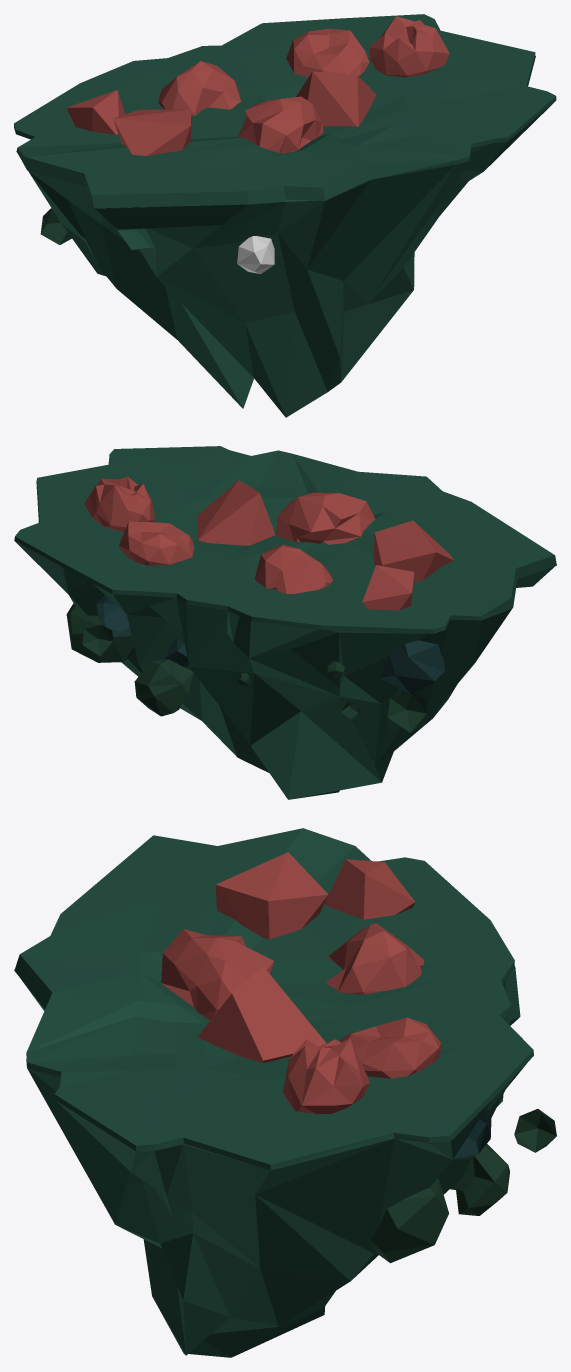
The model's file is island2_base.obj.
3 views of the same model, one above another, from view 1: azimuth 30°, elevation 25°; view 2: azimuth 150°, elevation 25°; view 3: azimuth 270°, elevation 25° (orthographic). The views are drawn at different scales.
Visible parts, largest first — view 1: Plane.001_Plane.002, Icosphere.014_Icosphere.020, Icosphere.007_Icosphere.016, Icosphere.008_Icosphere.015, Icosphere.010_Icosphere.017, Icosphere.012_Icosphere.019, Icosphere.002_Icosphere.000, Icosphere.011_Icosphere.018, Icosphere.009_Icosphere.010, Icosphere.013_Icosphere.014; view 2: Plane.001_Plane.002, Icosphere.013_Icosphere.014, Icosphere.014_Icosphere.020, Icosphere.003, Icosphere.010_Icosphere.017, Icosphere.012_Icosphere.019, Icosphere.002_Icosphere.000, Icosphere.007_Icosphere.016, Icosphere.008_Icosphere.015, Icosphere.011_Icosphere.018; view 3: Plane.001_Plane.002, Icosphere.013_Icosphere.014, Icosphere.010_Icosphere.017, Icosphere.012_Icosphere.019, Icosphere.014_Icosphere.020, Icosphere.007_Icosphere.016, Icosphere.002_Icosphere.000, Icosphere.008_Icosphere.015, Icosphere.011_Icosphere.018, Icosphere.003.
Part boxes in pixels (bbox=[...]): Plane.001_Plane.002: bbox=[14, 14, 556, 417]; Icosphere.014_Icosphere.020: bbox=[238, 96, 323, 153]; Icosphere.007_Icosphere.016: bbox=[369, 16, 449, 77]; Icosphere.008_Icosphere.015: bbox=[286, 28, 369, 77]; Icosphere.010_Icosphere.017: bbox=[296, 71, 376, 126]; Icosphere.012_Icosphere.019: bbox=[113, 109, 191, 155]; Icosphere.002_Icosphere.000: bbox=[158, 61, 240, 115]; Icosphere.011_Icosphere.018: bbox=[66, 90, 124, 134]; Icosphere.009_Icosphere.010: bbox=[237, 236, 274, 274]; Icosphere.013_Icosphere.014: bbox=[40, 208, 71, 244]; Plane.001_Plane.002: bbox=[14, 446, 556, 799]; Icosphere.013_Icosphere.014: bbox=[66, 603, 426, 732]; Icosphere.014_Icosphere.020: bbox=[276, 492, 375, 544]; Icosphere.003: bbox=[96, 594, 444, 694]; Icosphere.010_Icosphere.017: bbox=[197, 480, 275, 545]; Icosphere.012_Icosphere.019: bbox=[373, 520, 453, 581]; Icosphere.002_Icosphere.000: bbox=[254, 544, 332, 593]; Icosphere.007_Icosphere.016: bbox=[84, 476, 154, 531]; Icosphere.008_Icosphere.015: bbox=[118, 521, 194, 565]; Icosphere.011_Icosphere.018: bbox=[362, 565, 414, 610]; Plane.001_Plane.002: bbox=[14, 828, 533, 1357]; Icosphere.013_Icosphere.014: bbox=[370, 1109, 556, 1263]; Icosphere.010_Icosphere.017: bbox=[197, 966, 326, 1062]; Icosphere.012_Icosphere.019: bbox=[215, 852, 328, 939]; Icosphere.014_Icosphere.020: bbox=[161, 929, 274, 1020]; Icosphere.007_Icosphere.016: bbox=[283, 1038, 369, 1113]; Icosphere.002_Icosphere.000: bbox=[326, 923, 424, 994]; Icosphere.008_Icosphere.015: bbox=[340, 1017, 440, 1078]; Icosphere.011_Icosphere.018: bbox=[324, 859, 415, 919]; Icosphere.003: bbox=[453, 1107, 491, 1159].
Bounding box in the file's own units: 39.44 × 23.94 × 27.72.
